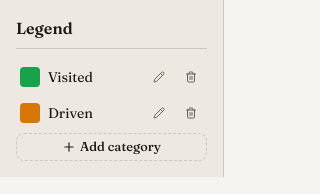
LegendPanel › restores the normal state after cancel
Click the button named "remove visited" at (191, 77), box [179, 65, 203, 89]
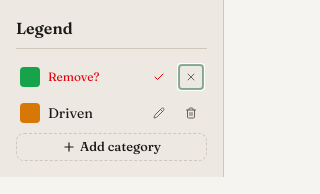
Click the button named "cancel" at (191, 77), box [179, 65, 203, 89]
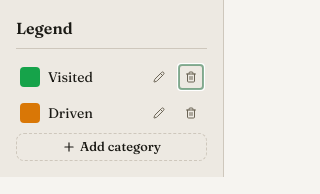
Result: the text "Remove?" is gone
Result: the text "Visited" is shown at [48, 68, 93, 86]
